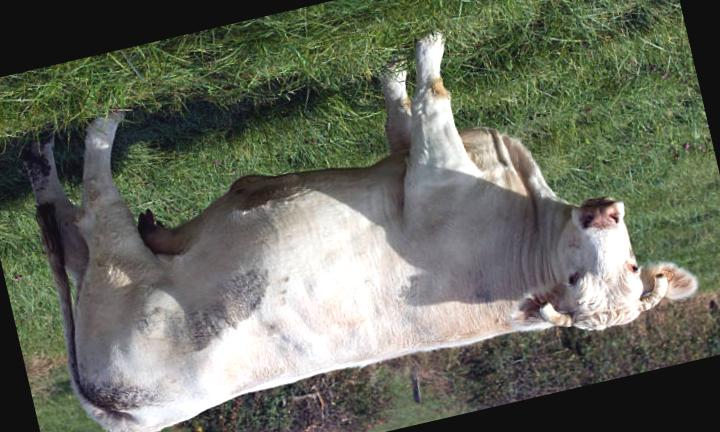Charolais: (26, 36, 695, 432)
